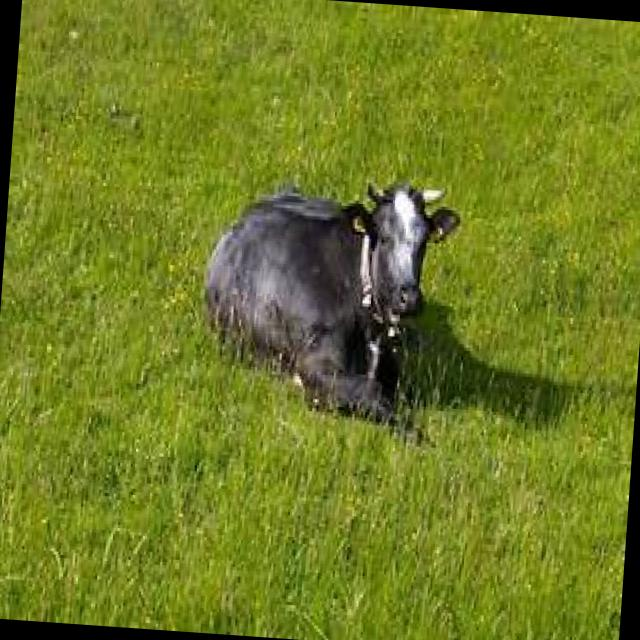animal: (189, 157, 478, 435)
